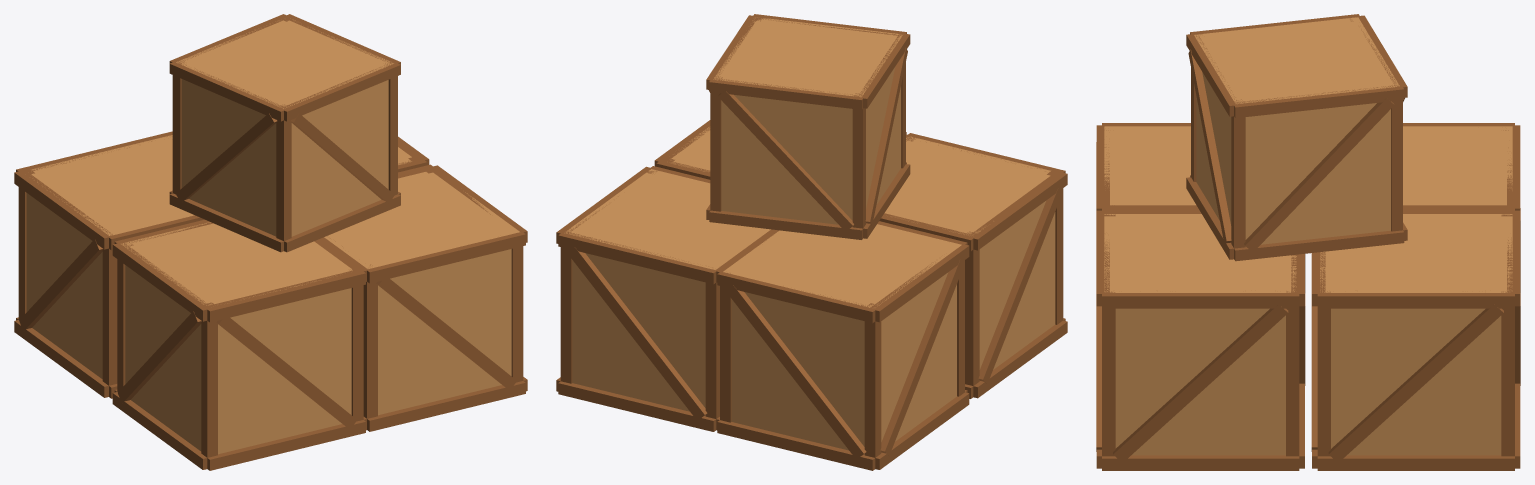
Rendered from Load_Crates.glb.
The picture shows the model from 3 angles, left to right: view 1: azimuth 30°, elevation 25°; view 2: azimuth 150°, elevation 25°; view 3: azimuth 270°, elevation 25°; orthographic projection. The views are drawn at different scales.
Visible parts, largest first — view 1: Load_Crates_Mesh; view 2: Load_Crates_Mesh; view 3: Load_Crates_Mesh.
Boxes of the visible parts, bbox=[...] form: Load_Crates_Mesh: bbox=[14, 14, 527, 470]; Load_Crates_Mesh: bbox=[556, 14, 1067, 470]; Load_Crates_Mesh: bbox=[1096, 14, 1520, 470].
Size of the model in its own units: 1.79 by 1.58 by 1.85.
Materials: 1 (1 with a texture image).
